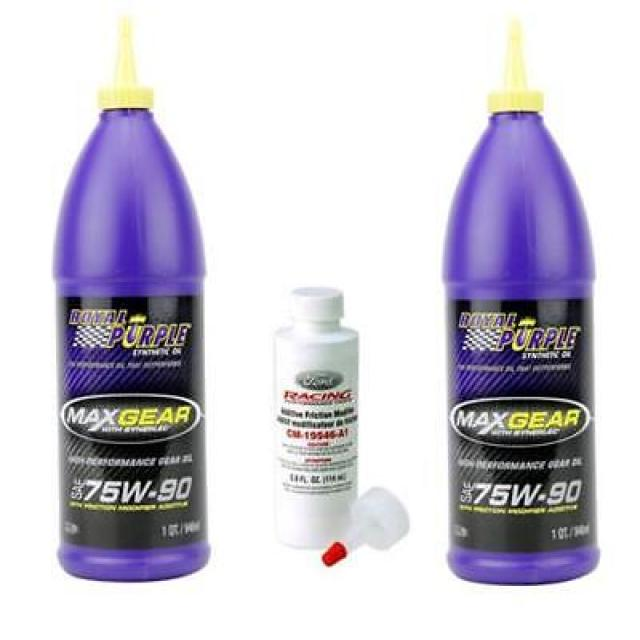-oil-: (422, 15, 608, 587), (58, 9, 228, 612)
